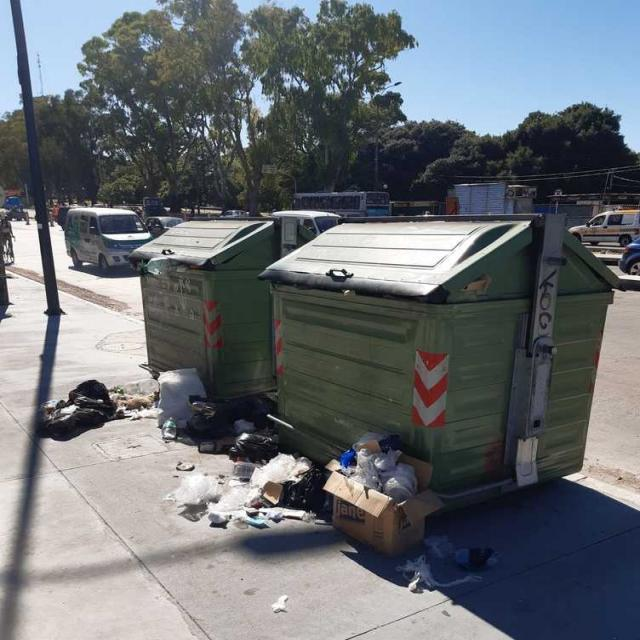garbage: (323, 428, 440, 562), (217, 406, 331, 536), (392, 531, 502, 601), (138, 362, 214, 454), (34, 376, 120, 442), (162, 452, 218, 526), (126, 252, 218, 282)
